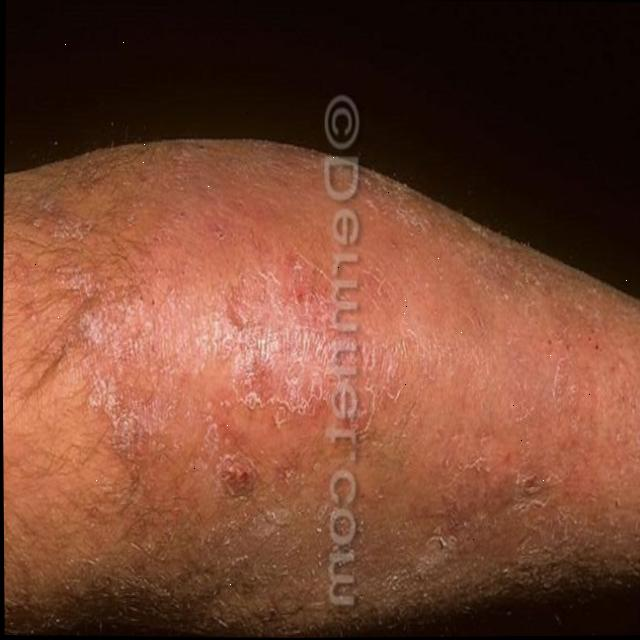Eczema: (79, 250, 399, 544)
